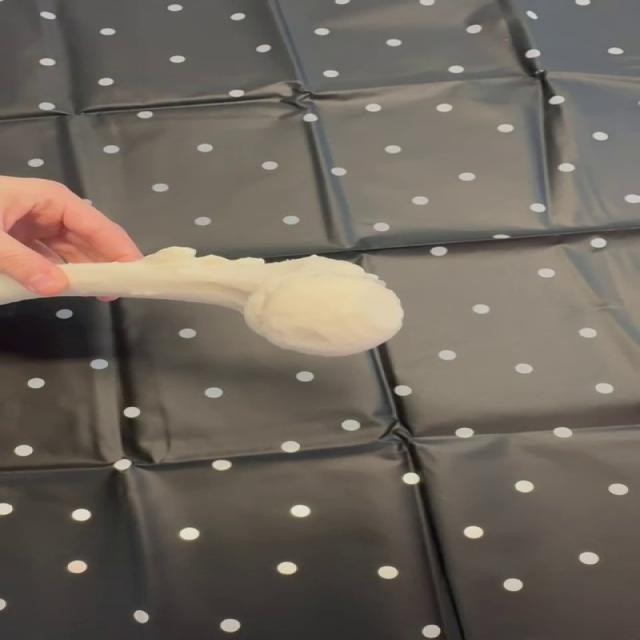bones: (59, 247, 403, 356)
